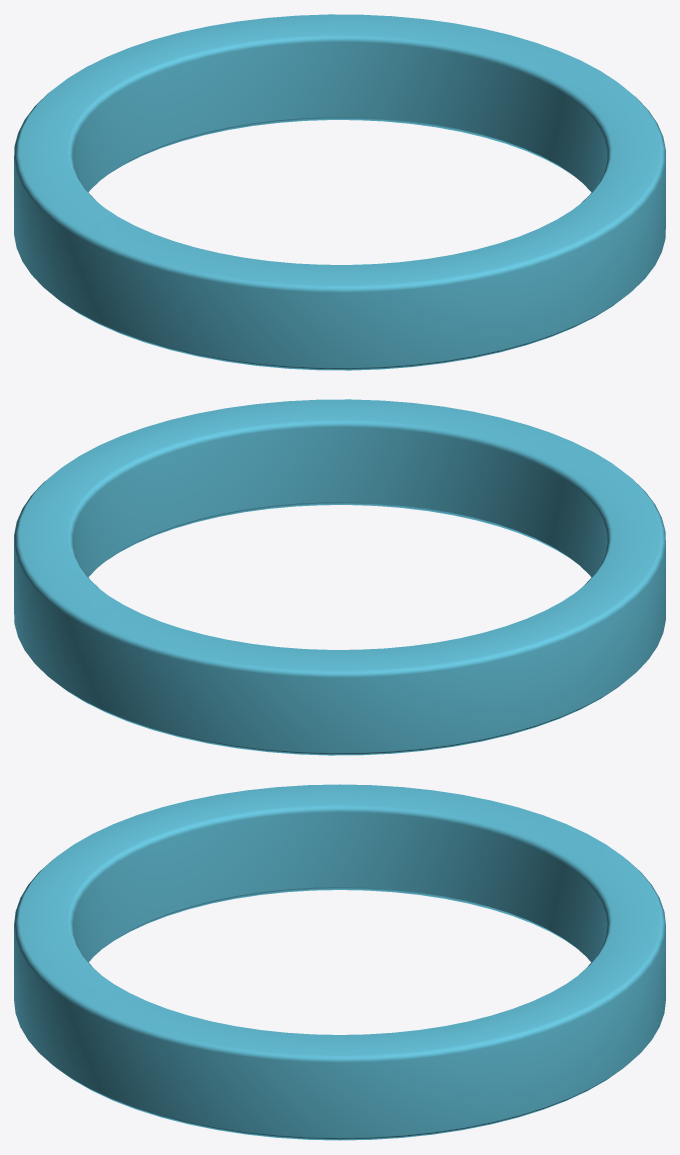
The picture shows the model from 3 angles, top to bottom: view 1: azimuth 30°, elevation 25°; view 2: azimuth 150°, elevation 25°; view 3: azimuth 270°, elevation 25°; orthographic projection.
Visible parts, largest first — view 1: seal_body; view 2: seal_body; view 3: seal_body.
Boxes of the visible parts, left/top/right/bottom form: seal_body: left=14, top=14, right=665, bottom=370; seal_body: left=14, top=399, right=665, bottom=755; seal_body: left=14, top=784, right=665, bottom=1140.
Size of the model in its own units: 0.11 by 0.0159 by 0.11.
